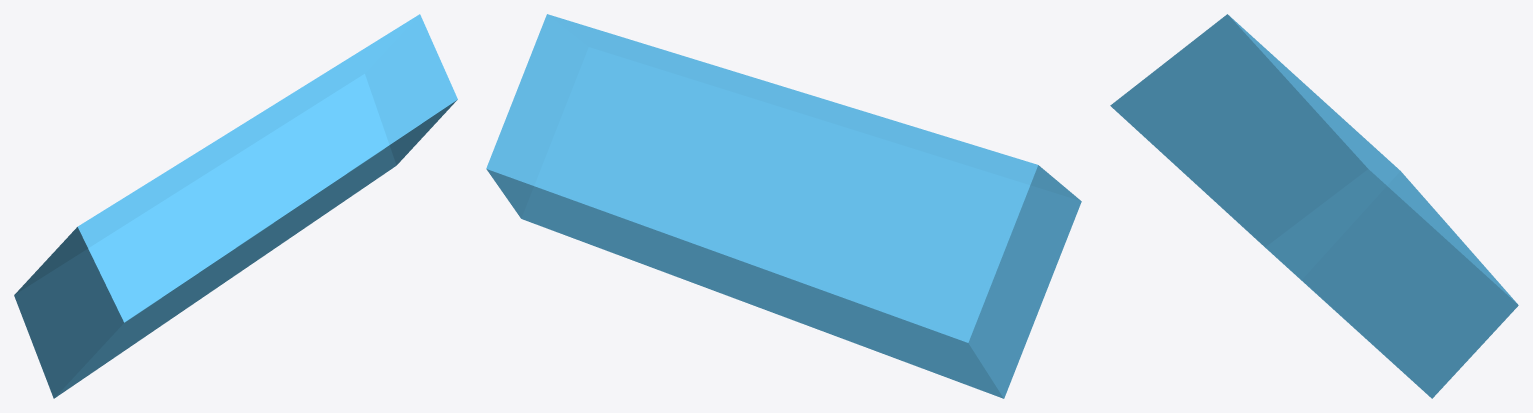
File: Event_420094457_HErechit_9.fbx
3 renders of one model, left to right at view 1: azimuth 30°, elevation 25°; view 2: azimuth 150°, elevation 25°; view 3: azimuth 270°, elevation 25°, orthographic. The views are drawn at different scales.
Visible parts, largest first — view 1: Model; view 2: Model; view 3: Model.
Boxes of the visible parts, x1,y1,x2,y2 form: Model: (14, 14, 457, 398); Model: (486, 14, 1081, 398); Model: (1110, 14, 1518, 398).
Bounding box in the file's own units: 1.53 × 1.01 × 1.01.
